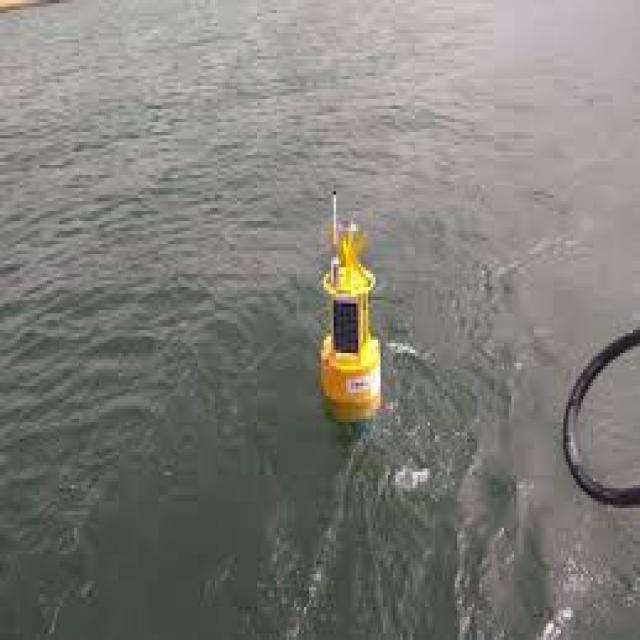marque: (307, 173, 389, 455)
